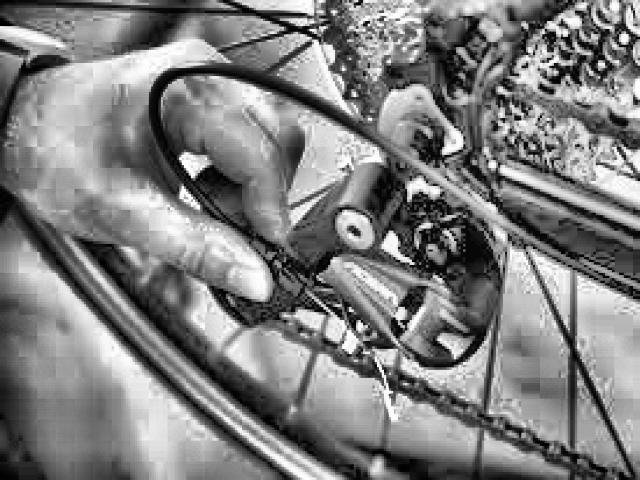rear_derailleur: (172, 95, 510, 377)
